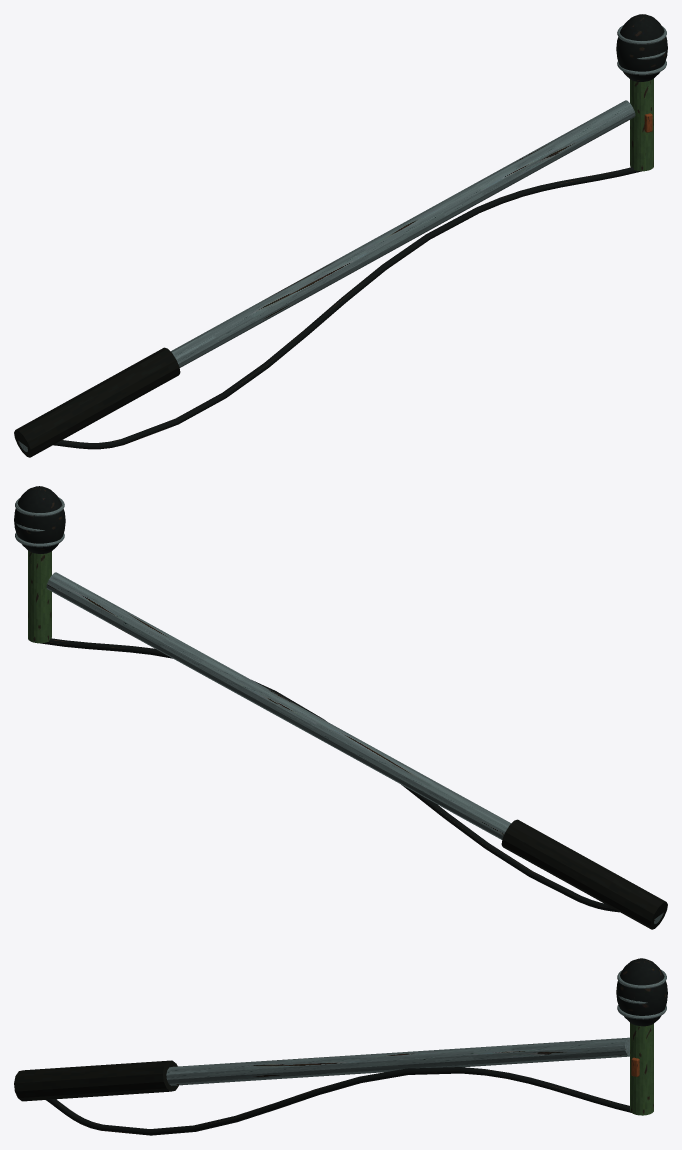
Rendered from eq-boommic.glb.
3 views of the same model, one above another, from view 1: azimuth 30°, elevation 25°; view 2: azimuth 150°, elevation 25°; view 3: azimuth 330°, elevation 25° (orthographic).
Visible parts, largest first — view 1: Telescopic pole, Grip, Cable, Mesh head.001, Mic handle.001; view 2: Telescopic pole, Grip, Cable, Mesh head.001, Mic handle.001; view 3: Telescopic pole, Grip, Cable, Mesh head.001, Mic handle.001.
Part boxes in pixels (bbox=[...]): Telescopic pole: bbox=[18, 100, 635, 451]; Grip: bbox=[14, 347, 180, 457]; Cable: bbox=[53, 167, 641, 449]; Mesh head.001: bbox=[616, 14, 667, 81]; Mic handle.001: bbox=[630, 78, 653, 171]; Telescopic pole: bbox=[46, 572, 663, 923]; Grip: bbox=[501, 819, 667, 929]; Cable: bbox=[40, 638, 619, 912]; Mesh head.001: bbox=[14, 486, 65, 553]; Mic handle.001: bbox=[28, 550, 51, 643]; Telescopic pole: bbox=[166, 1037, 629, 1085]; Grip: bbox=[14, 1060, 178, 1101]; Cable: bbox=[46, 1067, 631, 1135]; Mesh head.001: bbox=[616, 958, 667, 1026]; Mic handle.001: bbox=[630, 1022, 653, 1115].
Bounding box in the file's own units: 1.09 × 0.4706 × 0.0853.
5 materials, 5 textured.
